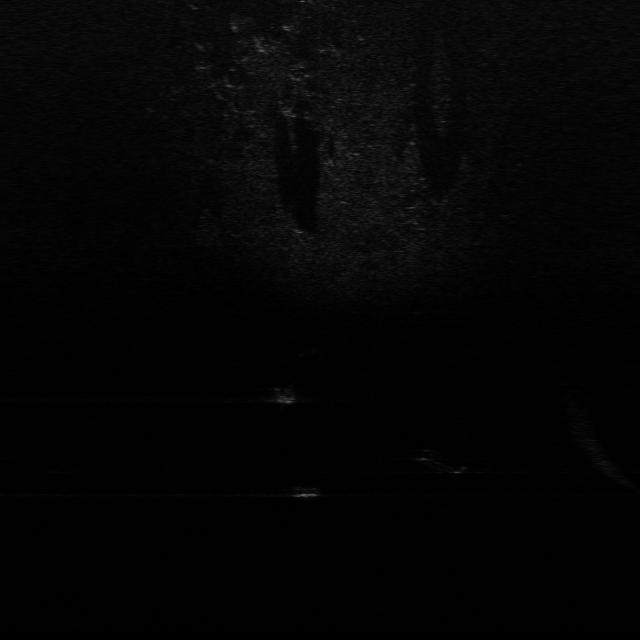cube: (283, 475, 326, 505)
square cage: (269, 380, 302, 408)
tyre: (403, 444, 473, 481)
